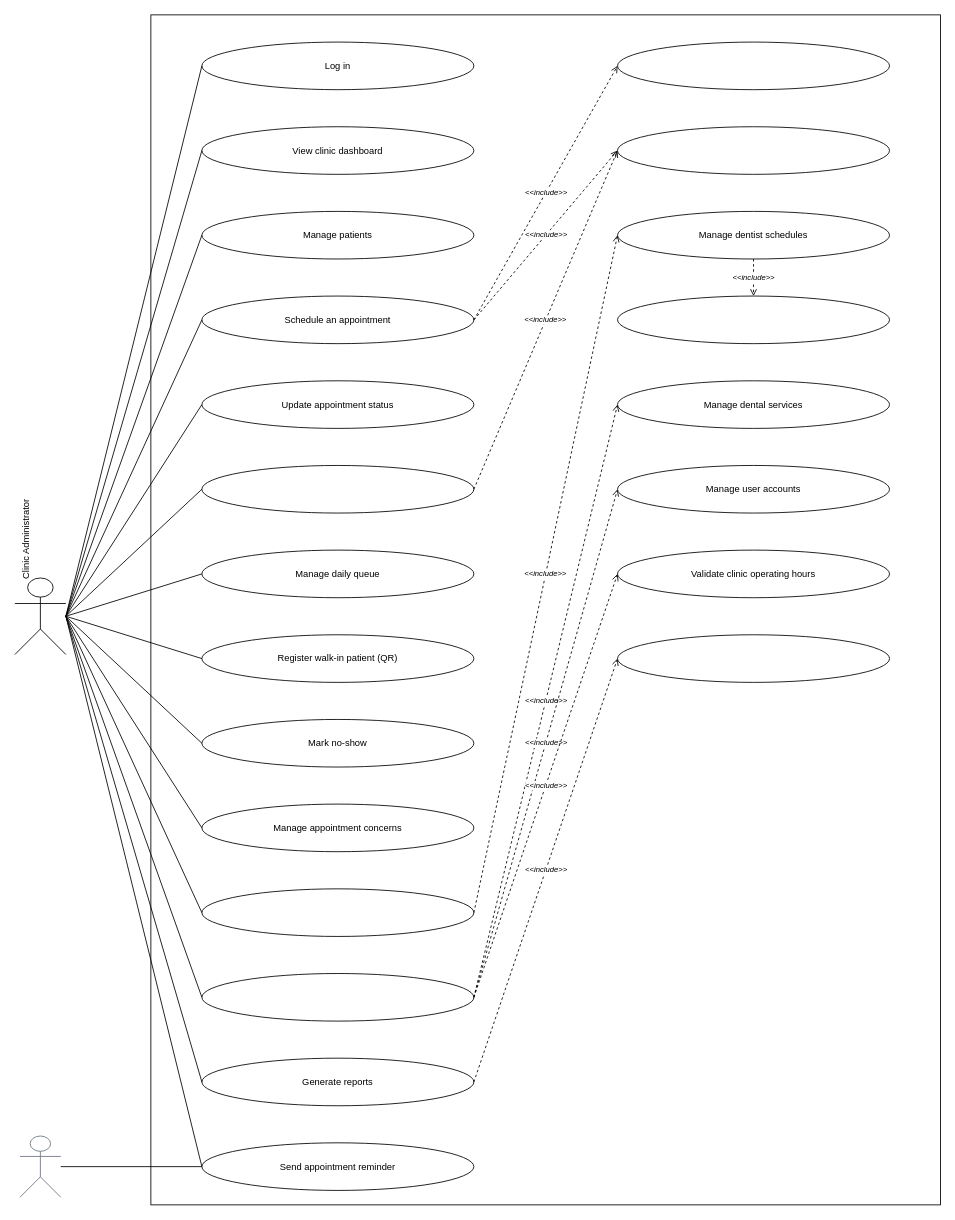
The diagram is 955 pixels wide and 1220 high, and some of its shapes have lost their labels. Each missing label, with the box of its shape:
Check dentist availability: (617, 126, 890, 174)
Detect schedule conflict: (617, 41, 890, 90)
Email Service: (19, 1135, 61, 1197)
Generate AI demand forecast: (617, 634, 890, 682)
Manage clinic settings: (201, 973, 474, 1021)
Manage dentists: (201, 888, 474, 936)
Register day-off: (617, 295, 890, 344)
Reschedule appointment: (201, 465, 474, 513)
